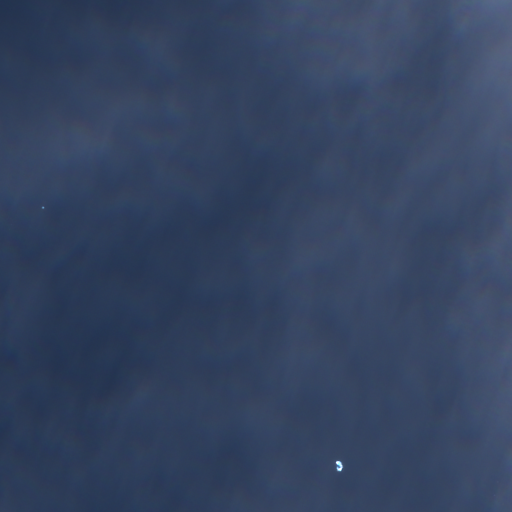Iceberg: (336, 461, 342, 471), (41, 206, 44, 208)
